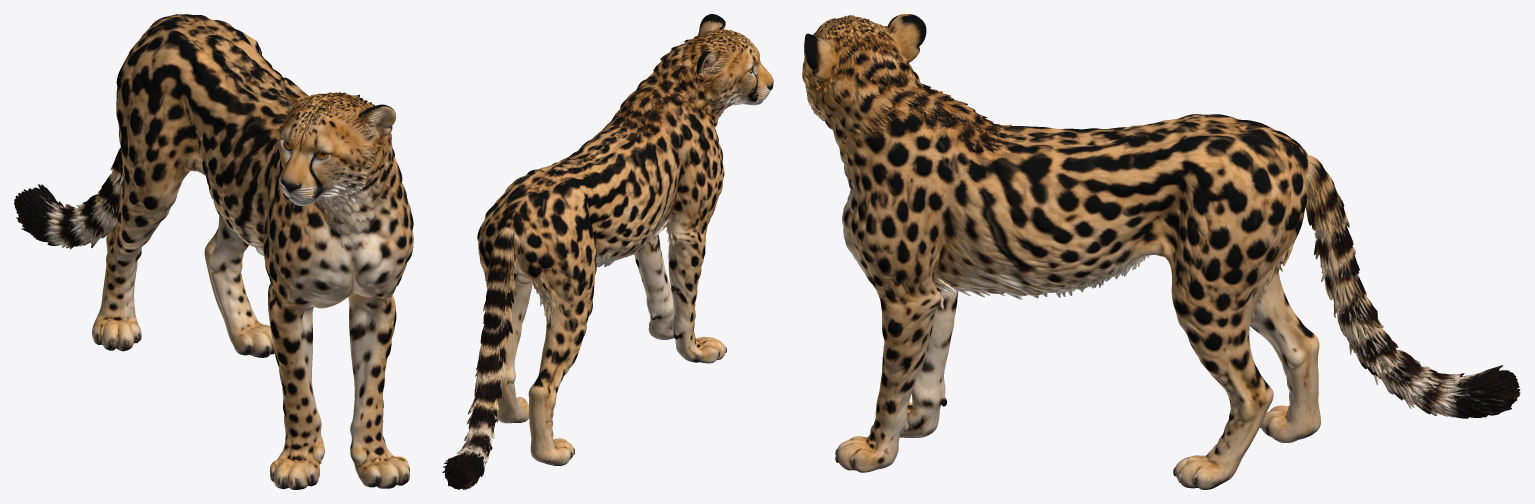
Rendered from cheetah.glb.
3 views of the same model, side by side, from view 1: azimuth 30°, elevation 25°; view 2: azimuth 150°, elevation 25°; view 3: azimuth 270°, elevation 25° (orthographic). The views are drawn at different scales.
Visible parts, largest first — view 1: cheetah; view 2: cheetah; view 3: cheetah.
Part boxes in pixels (x1,y1,x2,y2): cheetah: (14,14,413,489); cheetah: (442,14,773,489); cheetah: (802,14,1520,489).
Size of the model in its own units: 0.4255 by 0.9285 by 1.47.
Materials: 1 (1 with a texture image).
